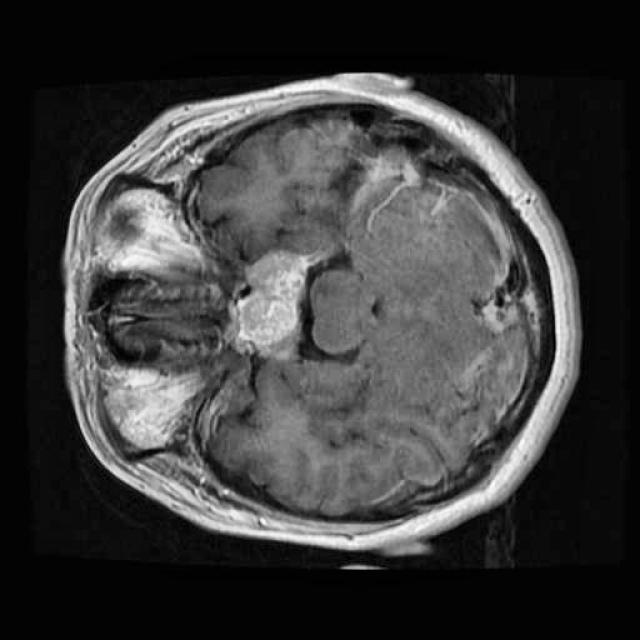Tumor: (226, 244, 320, 378)
